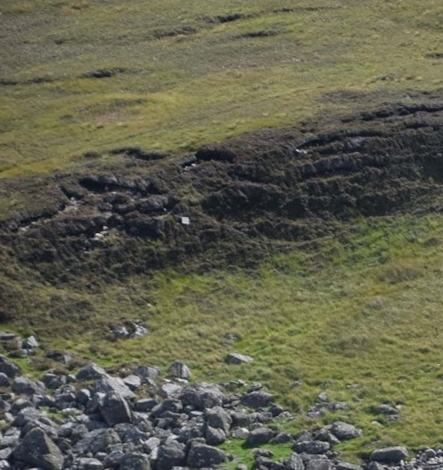white_in_green: (156, 196, 217, 247)
